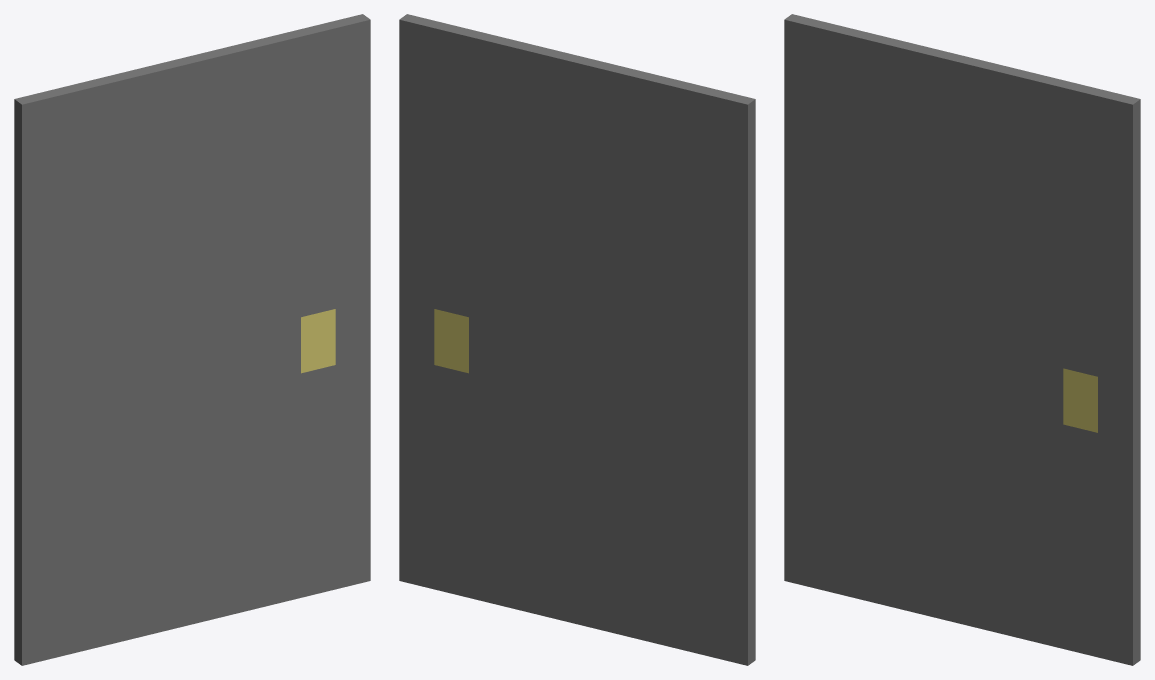
The model's file is door.obj.
3 views of the same model, side by side, from view 1: azimuth 30°, elevation 25°; view 2: azimuth 150°, elevation 25°; view 3: azimuth 330°, elevation 25° (orthographic).
Parts seen in each view (by area): view 1: pCube1; view 2: pCube1; view 3: pCube1.
Part boxes in pixels (<box>): pCube1: <box>14,14,370,665</box>; pCube1: <box>399,14,755,665</box>; pCube1: <box>784,14,1140,665</box>.
Size of the model in its own units: 1.3 by 2 by 0.05.
2 materials, 2 textured.
